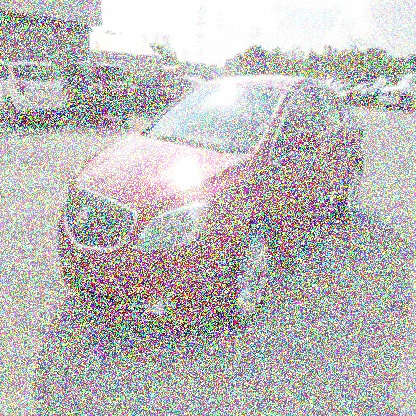Vehicle: (55, 74, 369, 333)
